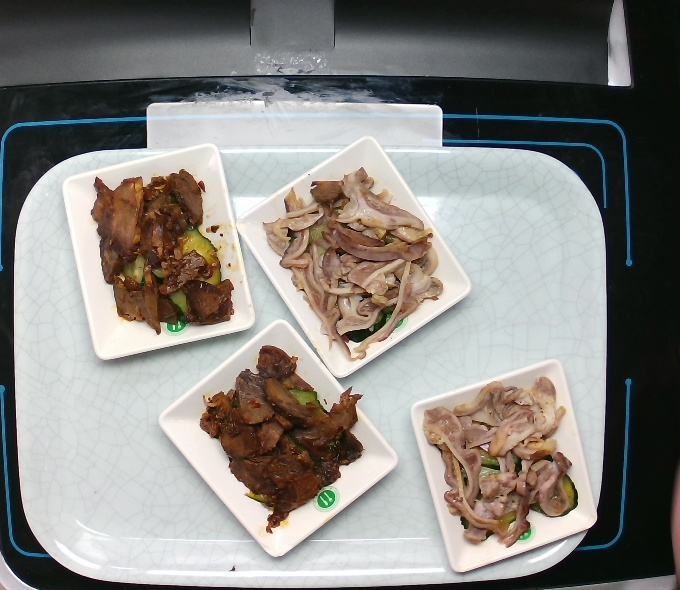wcq-JiangNiuRou: (186, 333, 369, 536), (82, 160, 241, 341)
wcq-ZhuDu: (258, 154, 447, 369), (414, 363, 587, 562)
